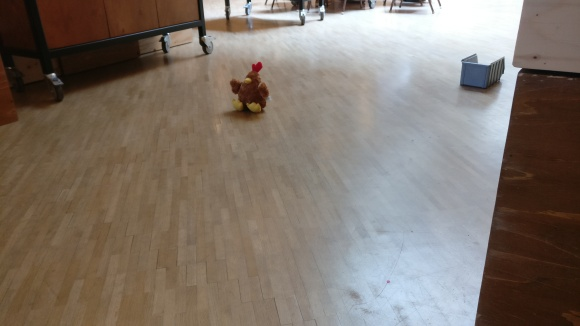chicken: (229, 61, 270, 113)
tray: (457, 52, 506, 90)
